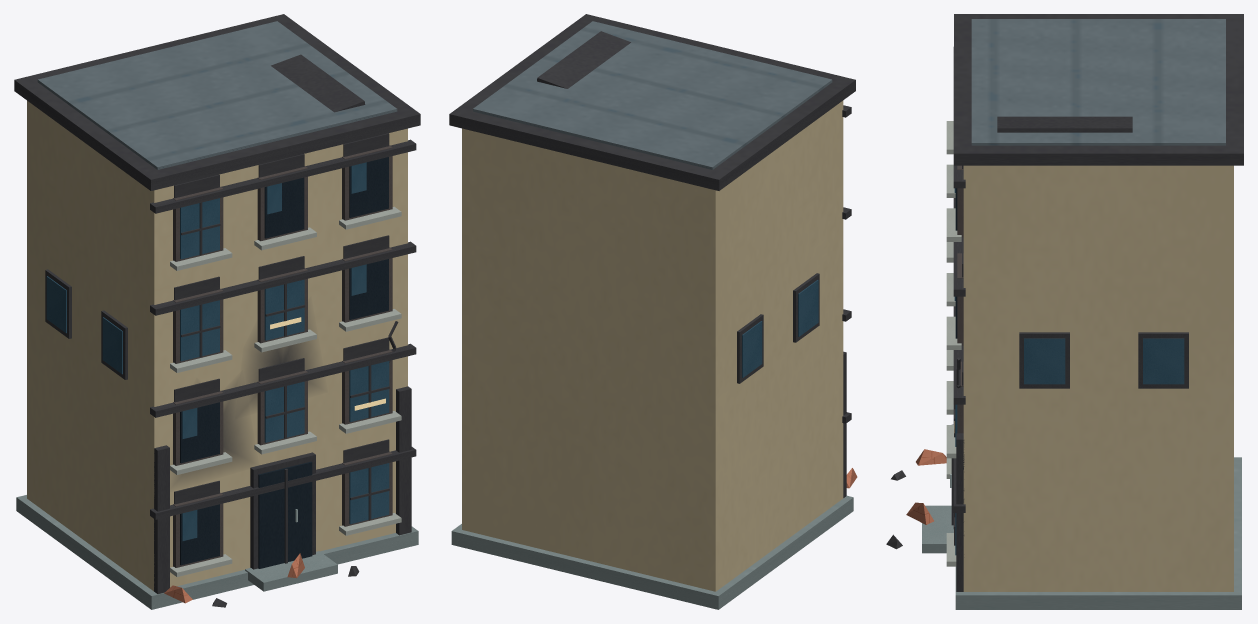
File: apartment-burning-lod.glb
The picture shows the model from 3 angles, left to right: view 1: azimuth 30°, elevation 25°; view 2: azimuth 150°, elevation 25°; view 3: azimuth 270°, elevation 25°; orthographic projection. The views are drawn at different scales.
Visible parts, largest first — view 1: apartment-burning-lod; view 2: apartment-burning-lod; view 3: apartment-burning-lod.
Boxes of the visible parts, x1,y1,x2,y2 form: apartment-burning-lod: (14,14,420,609); apartment-burning-lod: (449,14,857,609); apartment-burning-lod: (886,14,1243,609).
Bounding box in the file's own units: 5.74 × 8.9 × 6.22.
5 materials, 5 textured.
